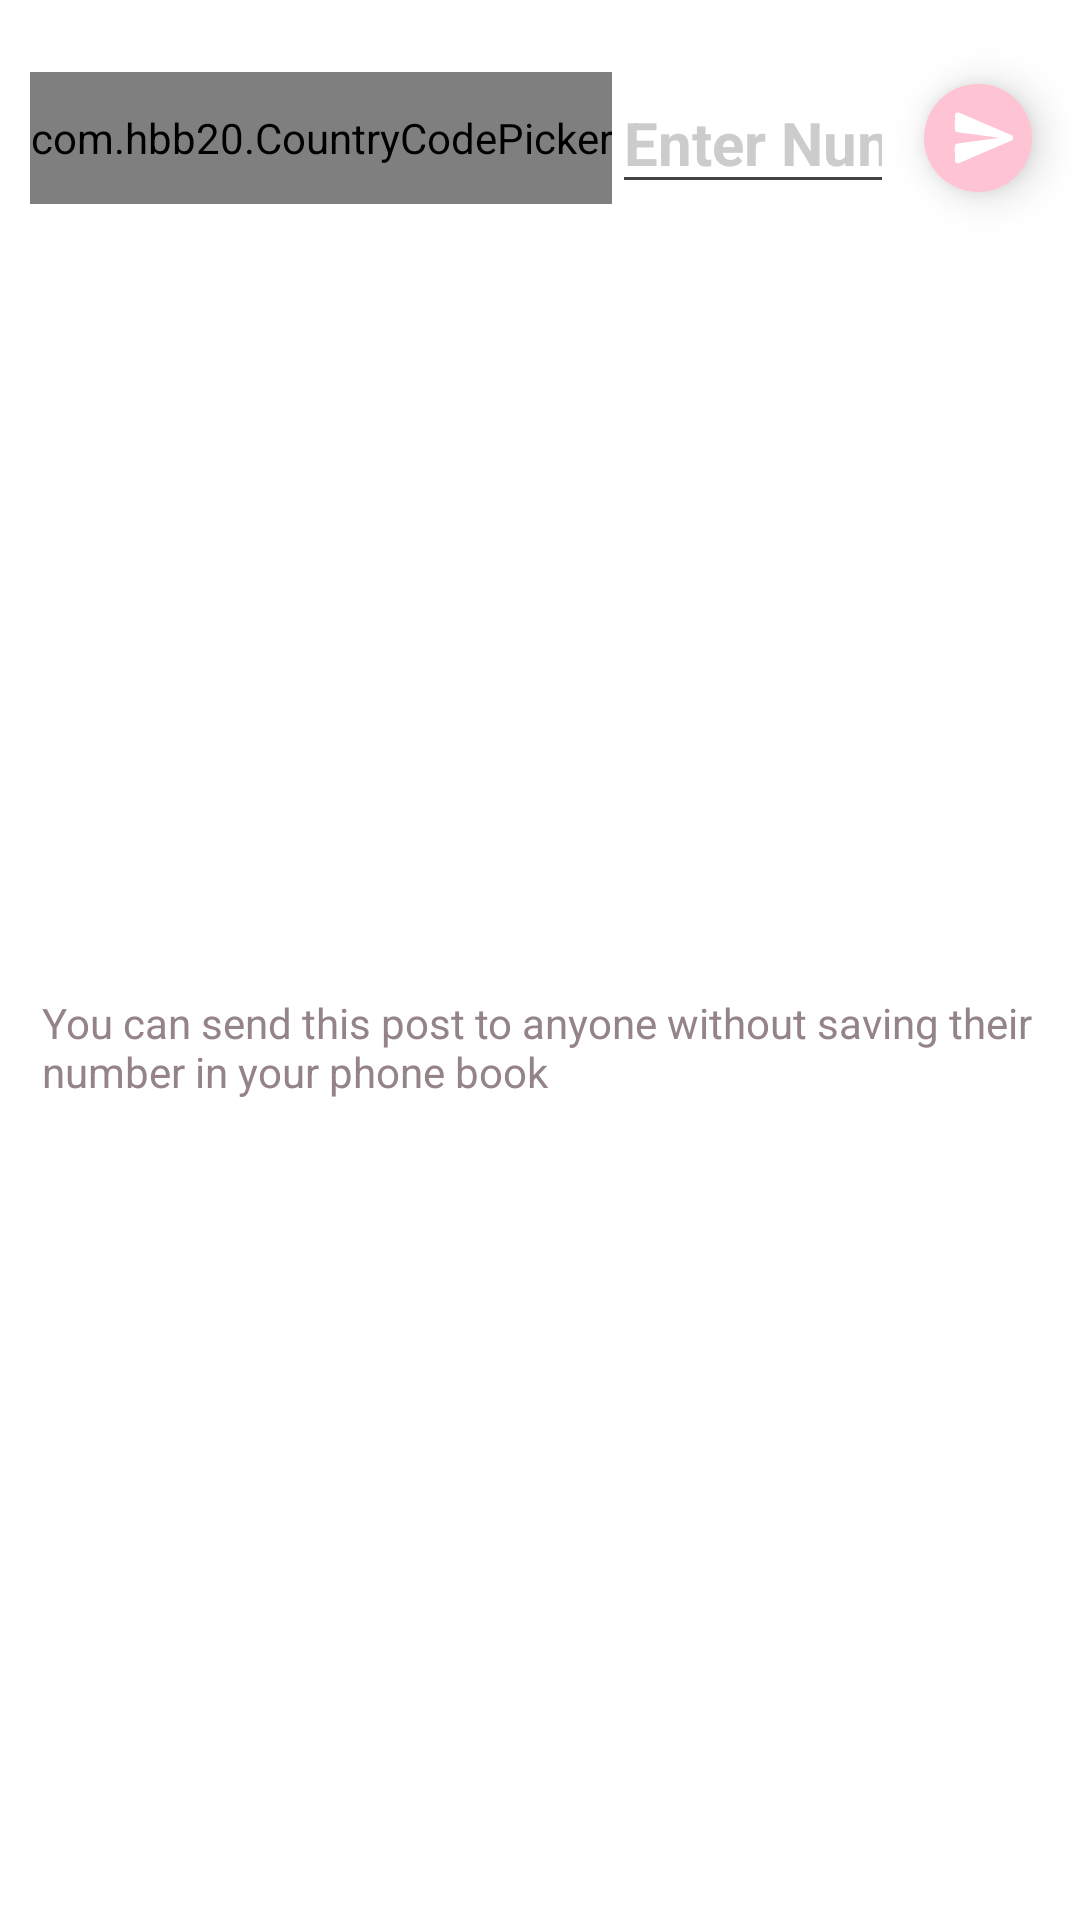

Screen size 1080 x 1920. Icon name, then its box in pixels as {"x1": x1, "y1": y1, "x2": x2, "y2": y2}:
send: {"x1": 924, "y1": 84, "x2": 1032, "y2": 192}
